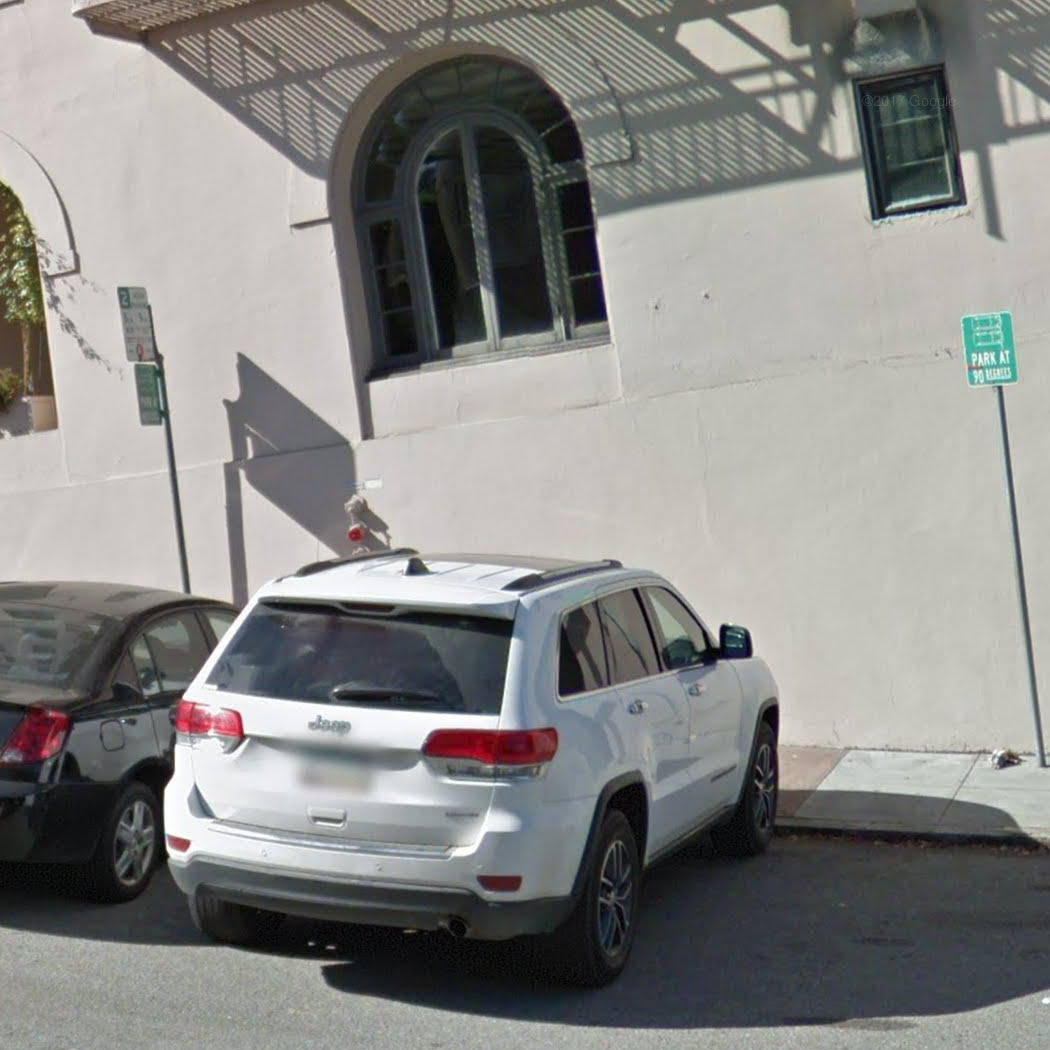2 Hour Parking: (113, 283, 159, 365)
